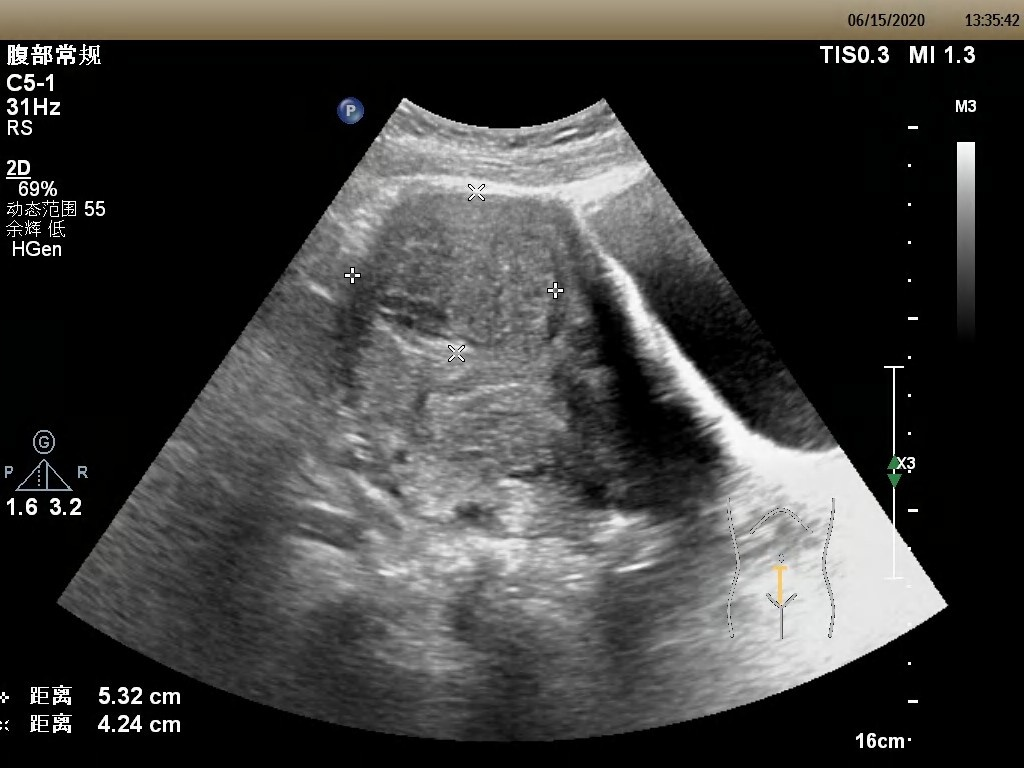肌瘤: (353, 191, 555, 353)
